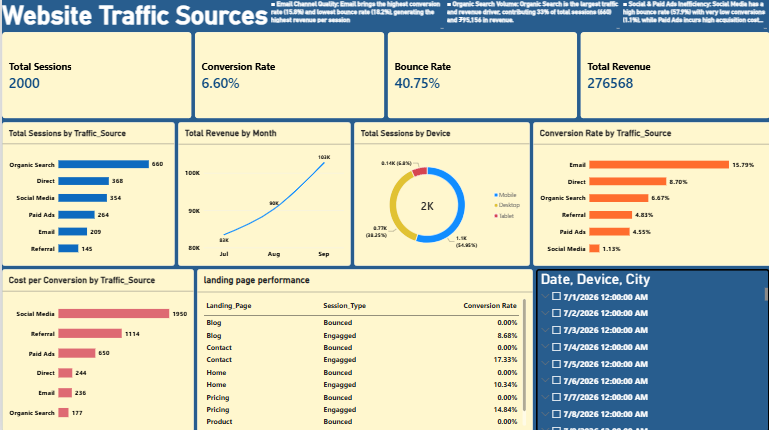

What the dashboard file says about the page in this screenshot:
{"tool":"powerbi","page":{"name":"Website Traffic Overview","canvas":[1920,1080],"ordinal":0},"visuals":[{"type":"cardVisual","fields":{"Data":["_Measures.Total Sessions","_Measures.Conversion Rate","_Measures.Bounce Rate","_Measures.Total Revenue"]},"box":[0,80,1920,216],"z":0},{"type":"barChart","fields":{"Category":["Traffic_Data.Traffic_Source"],"Y":["_Measures.Total Sessions"]},"box":[0,304,432,360],"z":1000},{"type":"lineChart","fields":{"Category":["Date_Table.Month"],"Y":["_Measures.Total Revenue"]},"box":[440,304,432,360],"z":2000},{"type":"donutChart","fields":{"Category":["Traffic_Data.Device"],"Y":["_Measures.Total Sessions"]},"box":[880,304,440,360],"z":3000},{"type":"clusteredBarChart","fields":{"Category":["Traffic_Data.Traffic_Source"],"Y":["_Measures.Conversion Rate"]},"box":[1328,304,600,360],"z":4000},{"type":"barChart","fields":{"Category":["Traffic_Data.Traffic_Source"],"Y":["_Measures.Cost per Conversion"]},"box":[0,672,480,408],"z":5000},{"type":"textbox","title":"Website Traffic Sources ","box":[0,0,672,80],"z":6000},{"type":"textbox","title":"■ Email Channel Quality: Email brings the highest conversion rate (15.8%) and lowest bounce rate (18.2%), generating the highest revenue per session","box":[672,0,432,72],"z":7000},{"type":"textbox","title":"■ Organic Search Volume: Organic Search is the largest traffic and revenue driver, contributing 33% of total sessions (660) and ₹95,156 in revenue.","box":[1112,0,432,72],"z":8000},{"type":"textbox","title":"■ Social & Paid Ads Inefficiency: Social Media has a high bounce rate (57.9%) with very low conversions (1.1%), while Paid Ads incurs high acquisition cost—budget reallocation recommended.","box":[1552,0,360,72],"z":9000},{"type":"tableEx","title":"landing page performance","fields":{"Values":["Traffic_Data.Landing_Page","Traffic_Data.Session_Type","_Measures.Conversion Rate"]},"box":[488,672,840,408],"z":10000},{"type":"slicer","fields":{"Values":["Date_Table.Date","Traffic_Data.Device","Traffic_Data.City"]},"box":[1336,672,584,408],"z":11000}]}

Visuals, with their boxes in screenshot pixels (x1, y1, x2, y2), scaled from the page's 1920x1080 canvas onto the 769x430 screenshot:
cardVisual - _Measures.Total Sessions x _Measures.Conversion Rate: [x1=0, y1=32, x2=768, y2=118]
barChart - Traffic_Data.Traffic_Source x _Measures.Total Sessions: [x1=0, y1=121, x2=173, y2=264]
lineChart - Date_Table.Month x _Measures.Total Revenue: [x1=176, y1=121, x2=349, y2=264]
donutChart - Traffic_Data.Device x _Measures.Total Sessions: [x1=352, y1=121, x2=529, y2=264]
clusteredBarChart - Traffic_Data.Traffic_Source x _Measures.Conversion Rate: [x1=532, y1=121, x2=768, y2=264]
barChart - Traffic_Data.Traffic_Source x _Measures.Cost per Conversion: [x1=0, y1=268, x2=192, y2=429]
"Website Traffic Sources " textbox: [x1=0, y1=0, x2=269, y2=32]
"■ Email Channel Quality: Email brings the highest conversion rate (15.8%) and lowest bounce rate (18.2%), generating the highest revenue per session" textbox: [x1=269, y1=0, x2=442, y2=29]
"■ Organic Search Volume: Organic Search is the largest traffic and revenue driver, contributing 33% of total sessions (660) and ₹95,156 in revenue." textbox: [x1=445, y1=0, x2=618, y2=29]
"■ Social & Paid Ads Inefficiency: Social Media has a high bounce rate (57.9%) with very low conversions (1.1%), while Paid Ads incurs high acquisition cost—budget reallocation recommended." textbox: [x1=622, y1=0, x2=766, y2=29]
"landing page performance" tableEx: [x1=195, y1=268, x2=532, y2=429]
slicer - Date_Table.Date x Traffic_Data.Device: [x1=535, y1=268, x2=768, y2=429]
